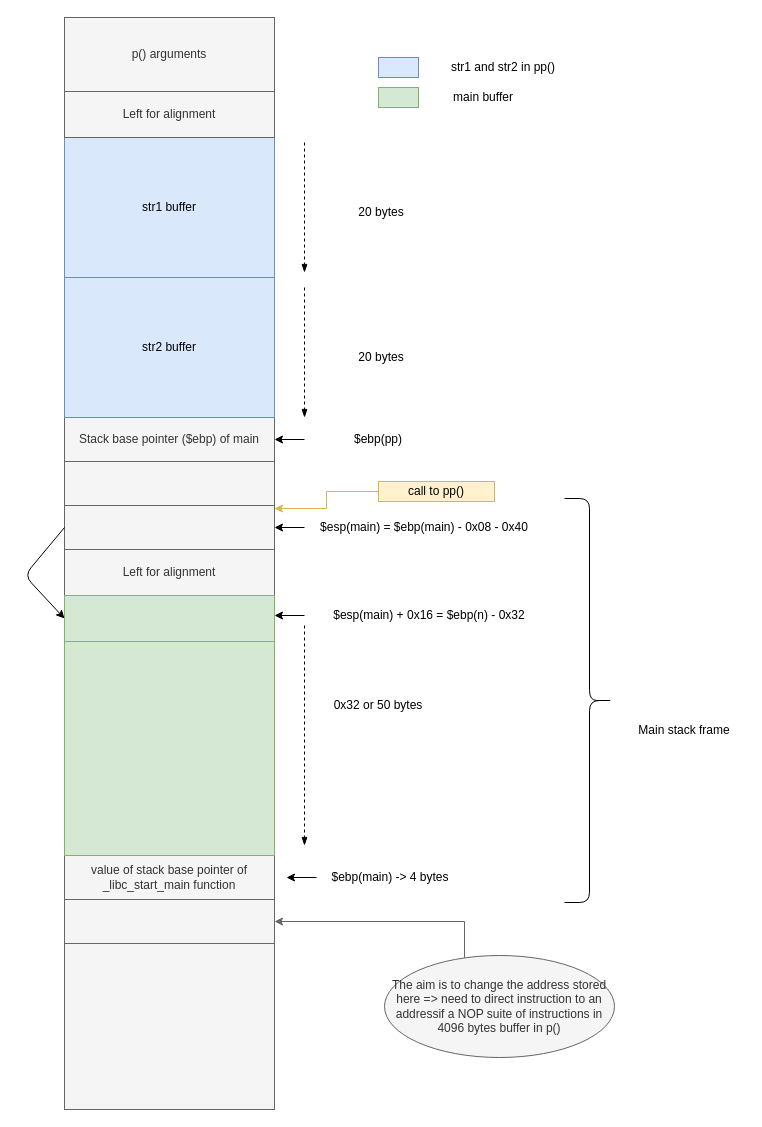
The diagram is 762 pixels wide and 1127 high, and some of its shapes have lost their labels. Here are the shapes that lost their labels. From the top down, the centre of each, then its label:
At [169,483]: "$eip (=next instruction of main -> after call to pp()".
At [169,527]: "Address of buffer - arg of pp() Line <+13>".
At [169,618]: "1st four bytes of our buffer filled up via fgets".
At [169,921]: "next instruction of function launching main() -> _libc_start_main".
At [169,1026]: "Stack frame before main (_start)".
